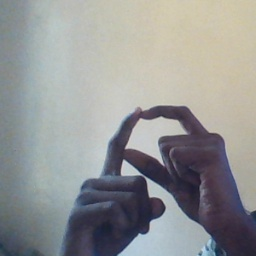D: (93, 99, 218, 221)
